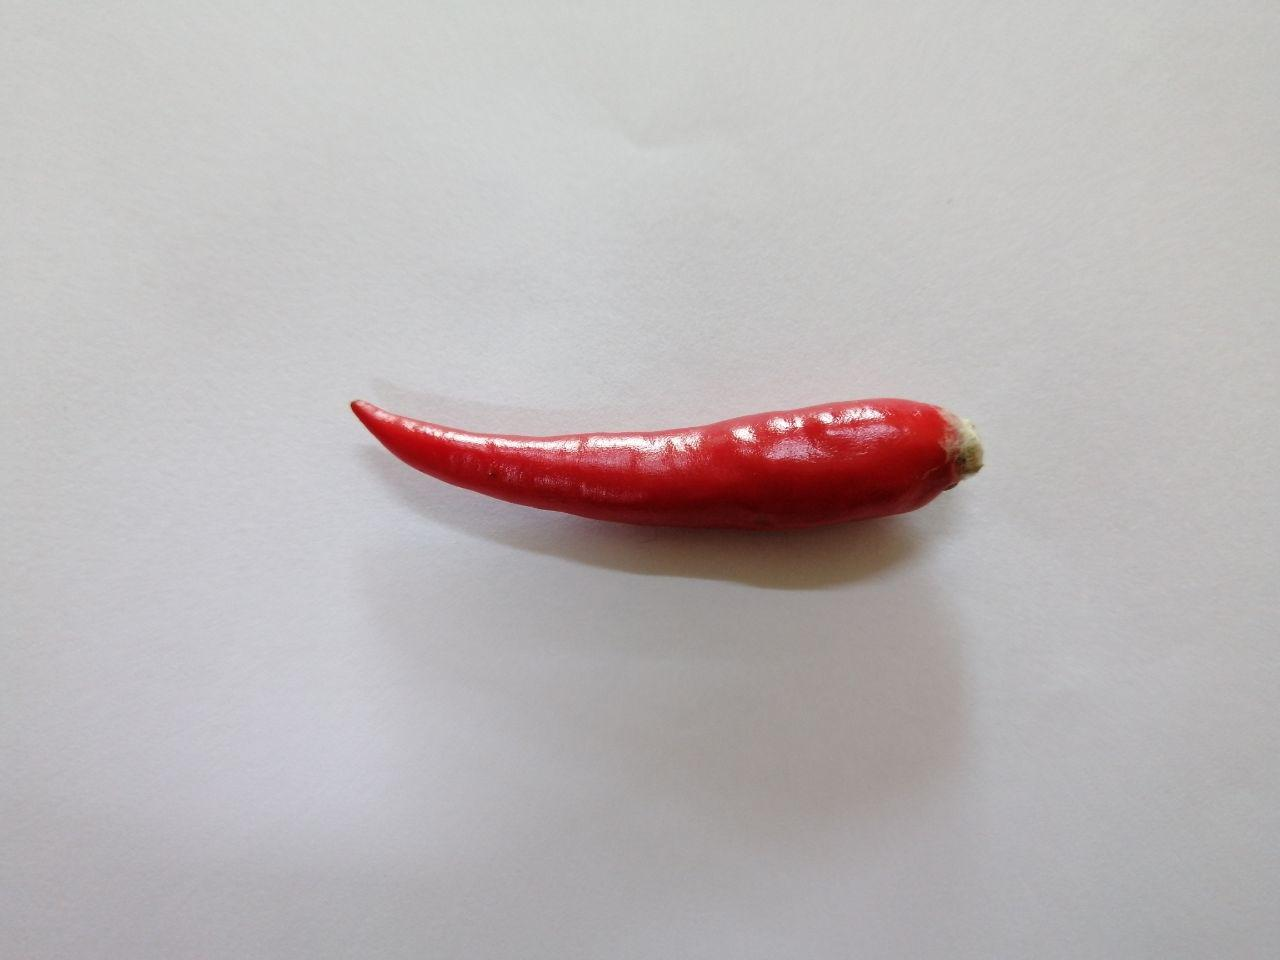lada merah: (330, 368, 1005, 565)
